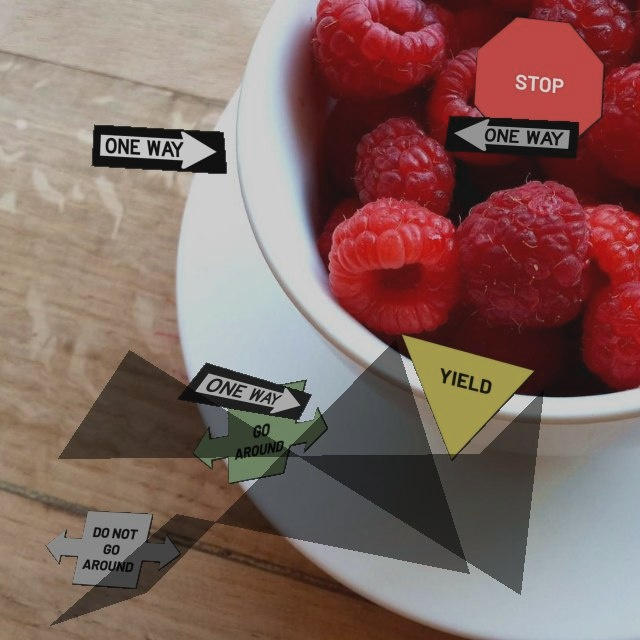DO_NOT_GO_AROUND: (45, 510, 181, 589)
GO_AROUND: (192, 379, 328, 484)
ONE_WAY_ left: (443, 115, 579, 159)
ONE_WAY_ right: (176, 362, 312, 420), (91, 124, 227, 174)
STOP: (473, 16, 605, 152)
YIELD: (400, 333, 536, 461)
